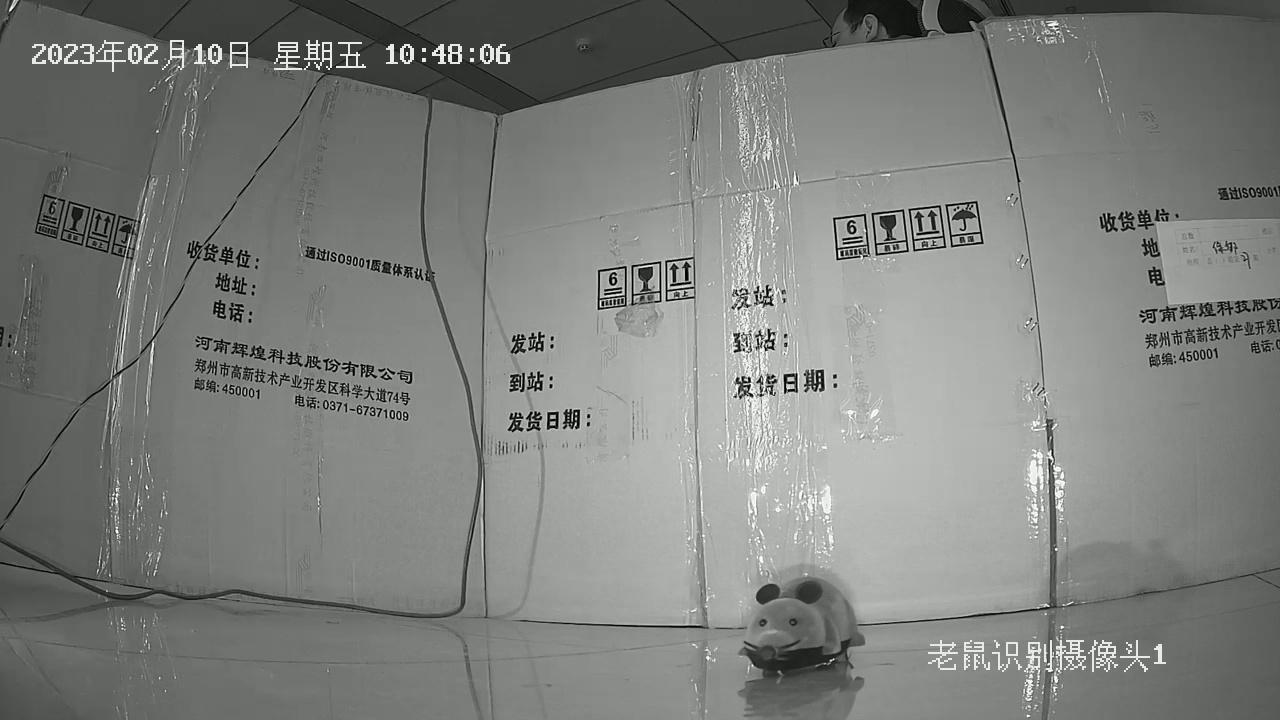rat: (746, 573, 866, 669)
